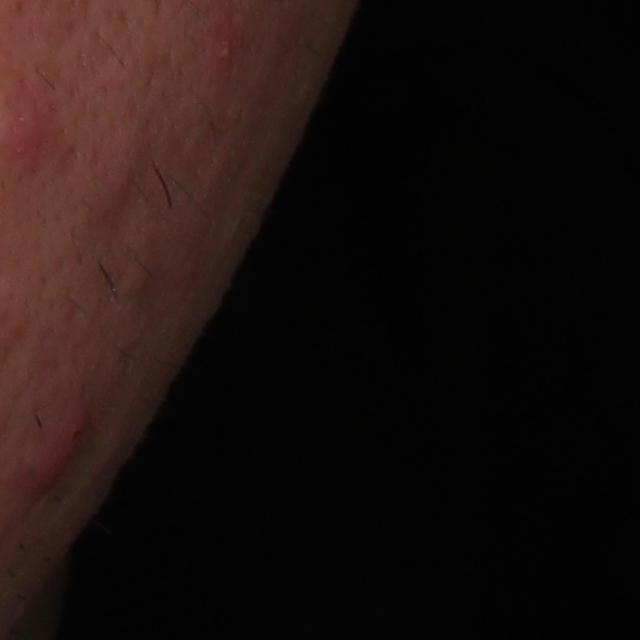papule: (24, 394, 97, 512), (74, 145, 149, 222)
